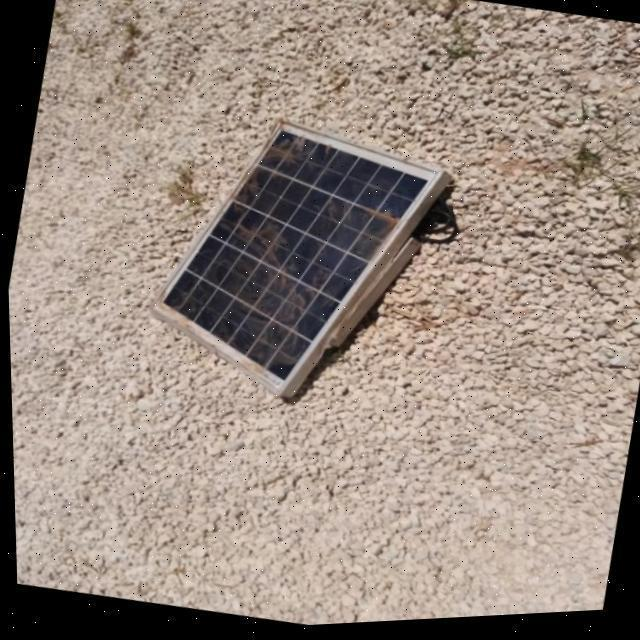Anomaly Solar Panel: (151, 122, 436, 396)
Surface Contaminant: (202, 220, 331, 380), (217, 122, 315, 228), (314, 197, 401, 271)
